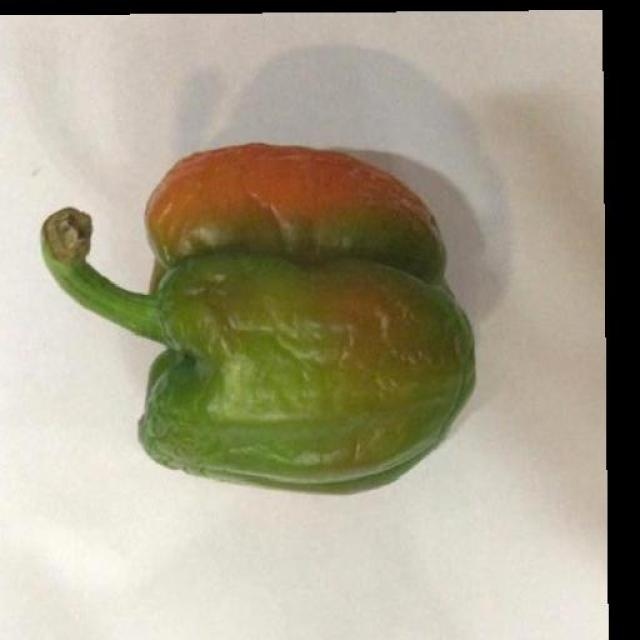Stale_Capsicum: (61, 126, 500, 514)
